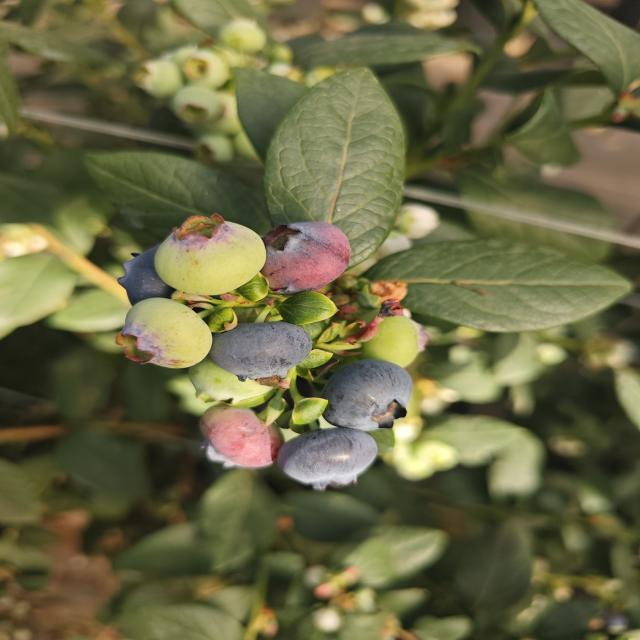ripe: (274, 357, 416, 492), (318, 357, 415, 433), (258, 220, 354, 296), (274, 425, 381, 492), (206, 320, 315, 384), (104, 241, 188, 310)
